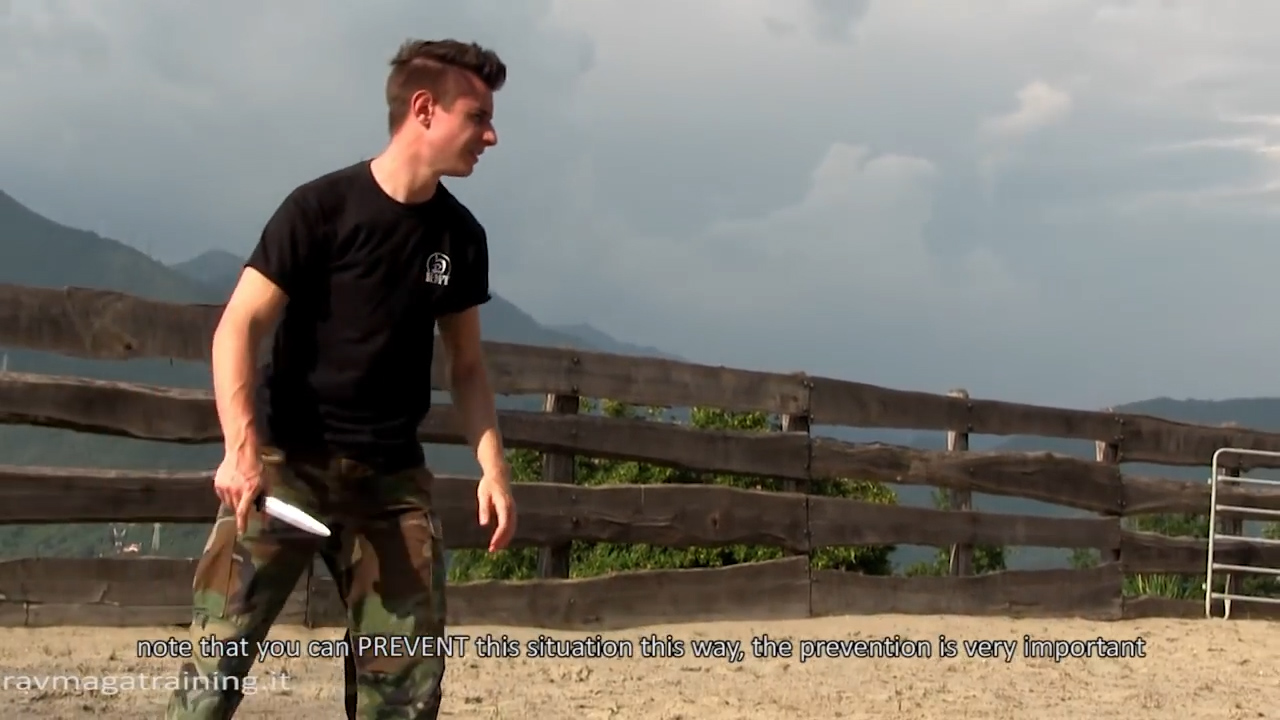knife: (203, 469, 343, 549)
